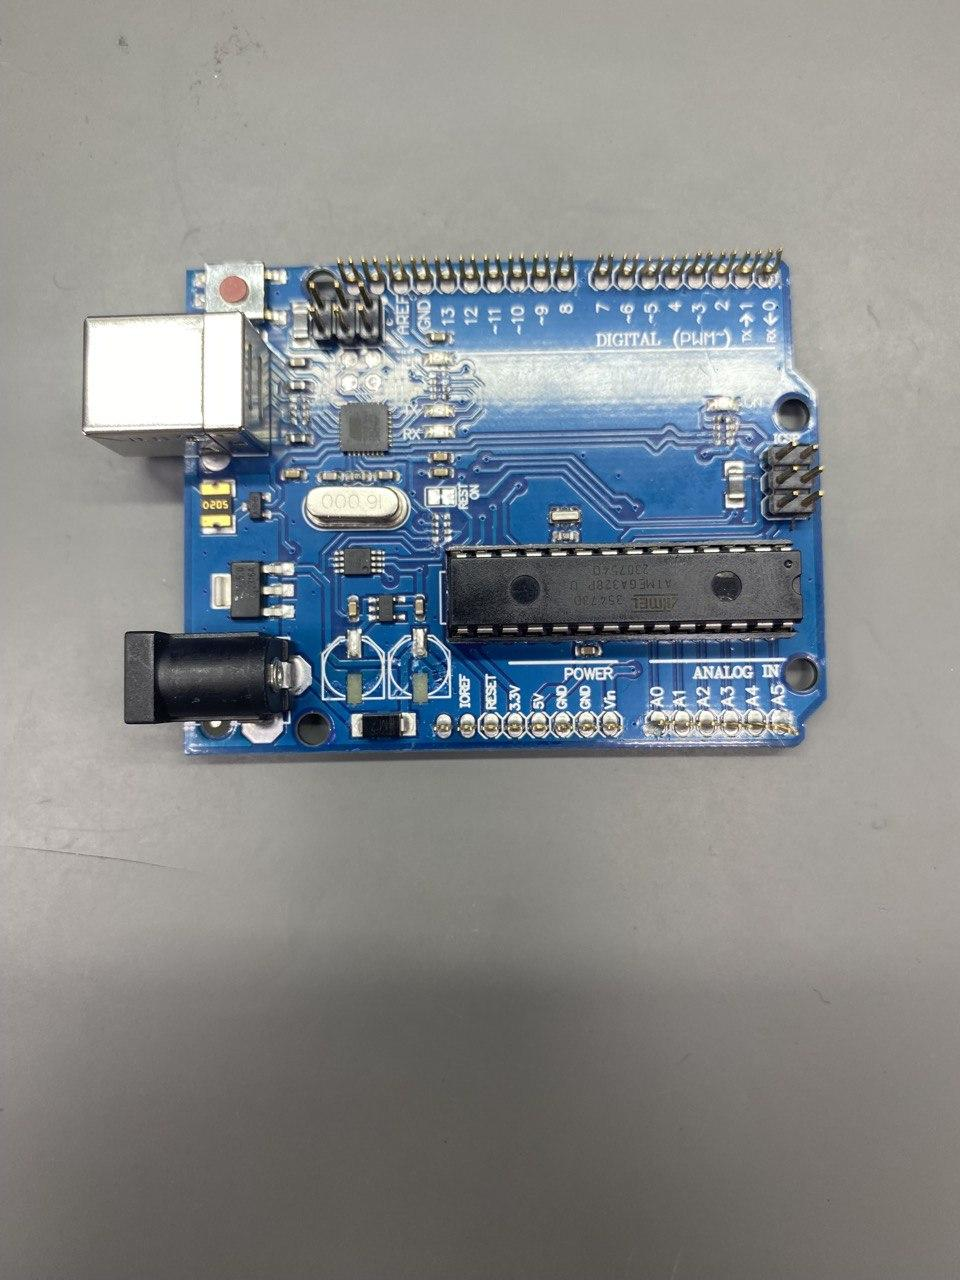ATmega328 chip: (443, 540, 803, 644)
Arduino board: (83, 247, 828, 755)
USB: (82, 311, 272, 458)
